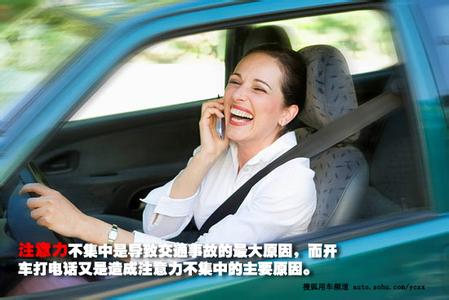phone: (216, 97, 226, 136)
